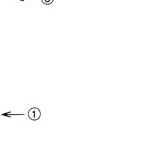chain: (41, 0, 55, 6)
enseble_chain: (0, 107, 26, 122), (25, 107, 41, 122)
